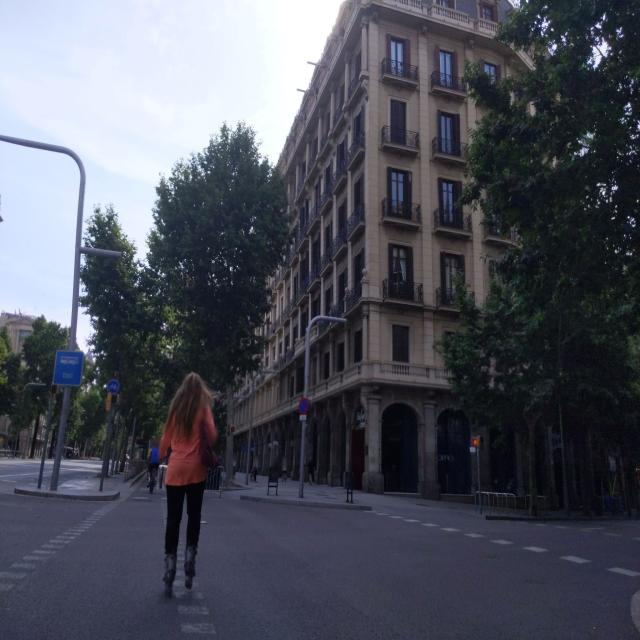forb_stopping: (298, 397, 308, 415)
